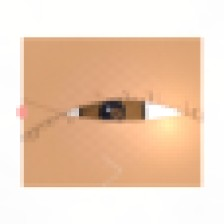foreign_body_visible: (101, 101, 132, 126)
